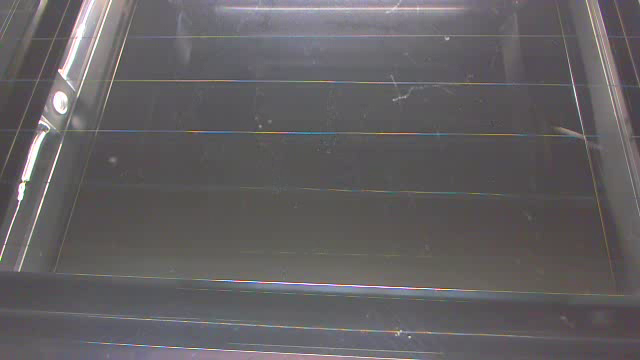alpha: (554, 114, 611, 171)
